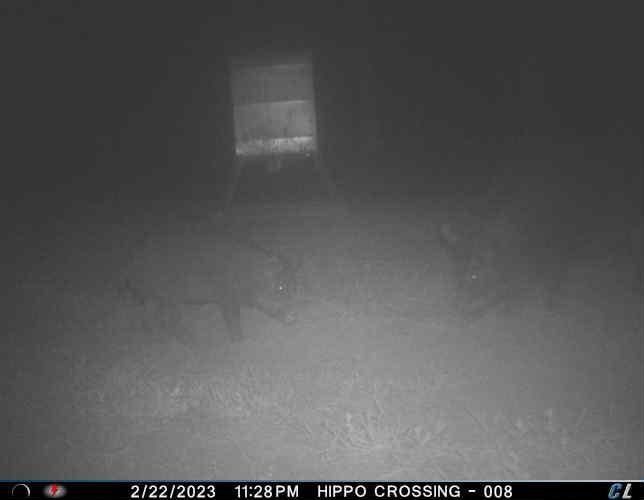Hog: (119, 231, 301, 347), (440, 211, 574, 322)
